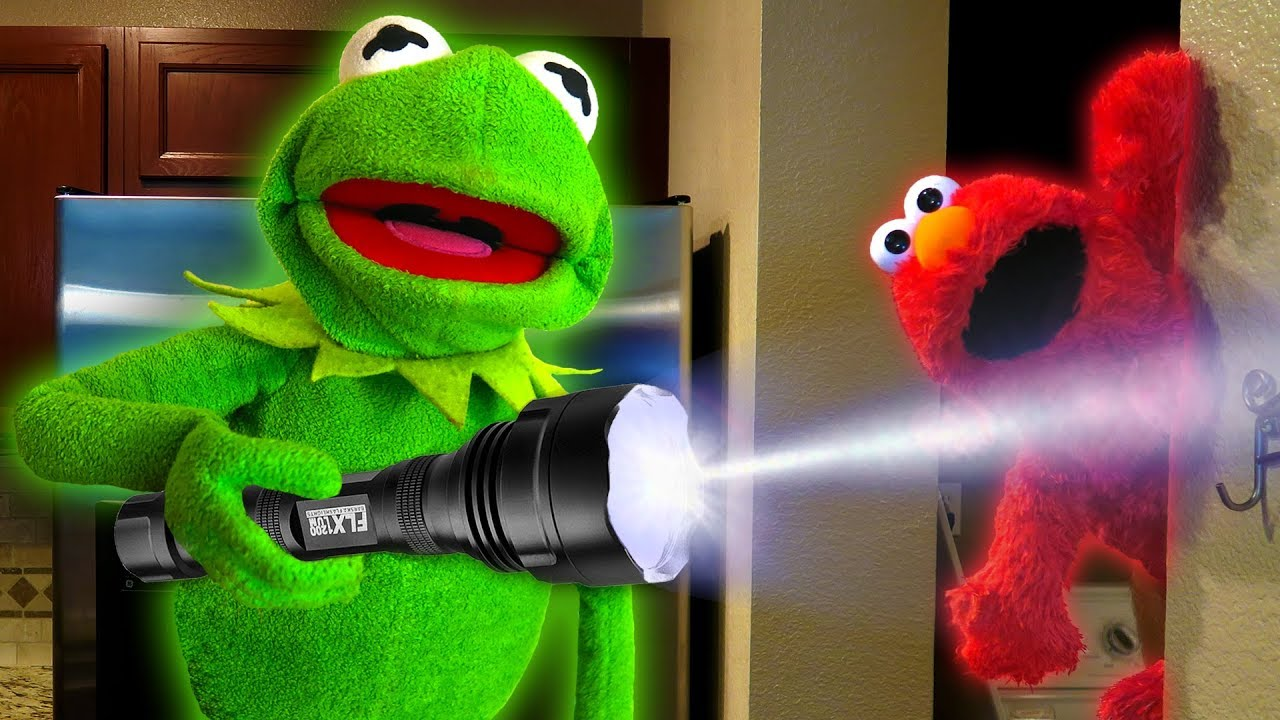kermit: (249, 9, 626, 363)
